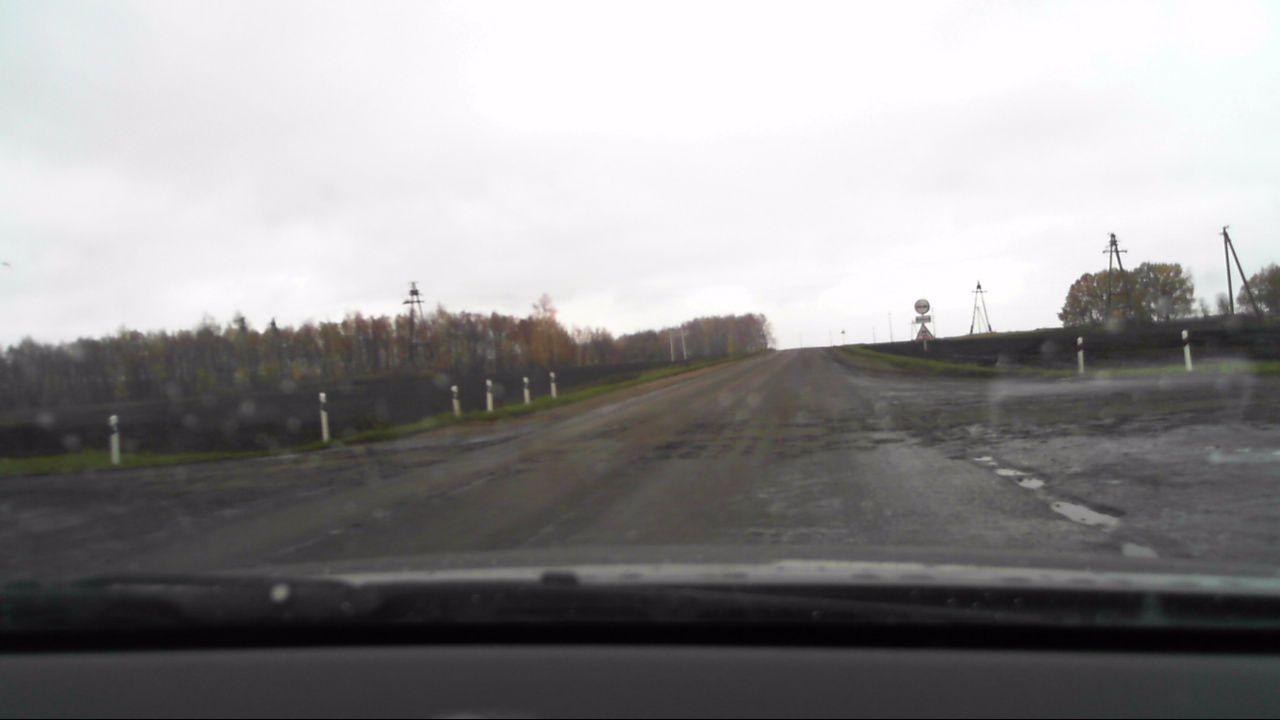1_15: (913, 324, 936, 341)
3_20: (912, 296, 931, 314)
8_2_1: (915, 315, 932, 323)
